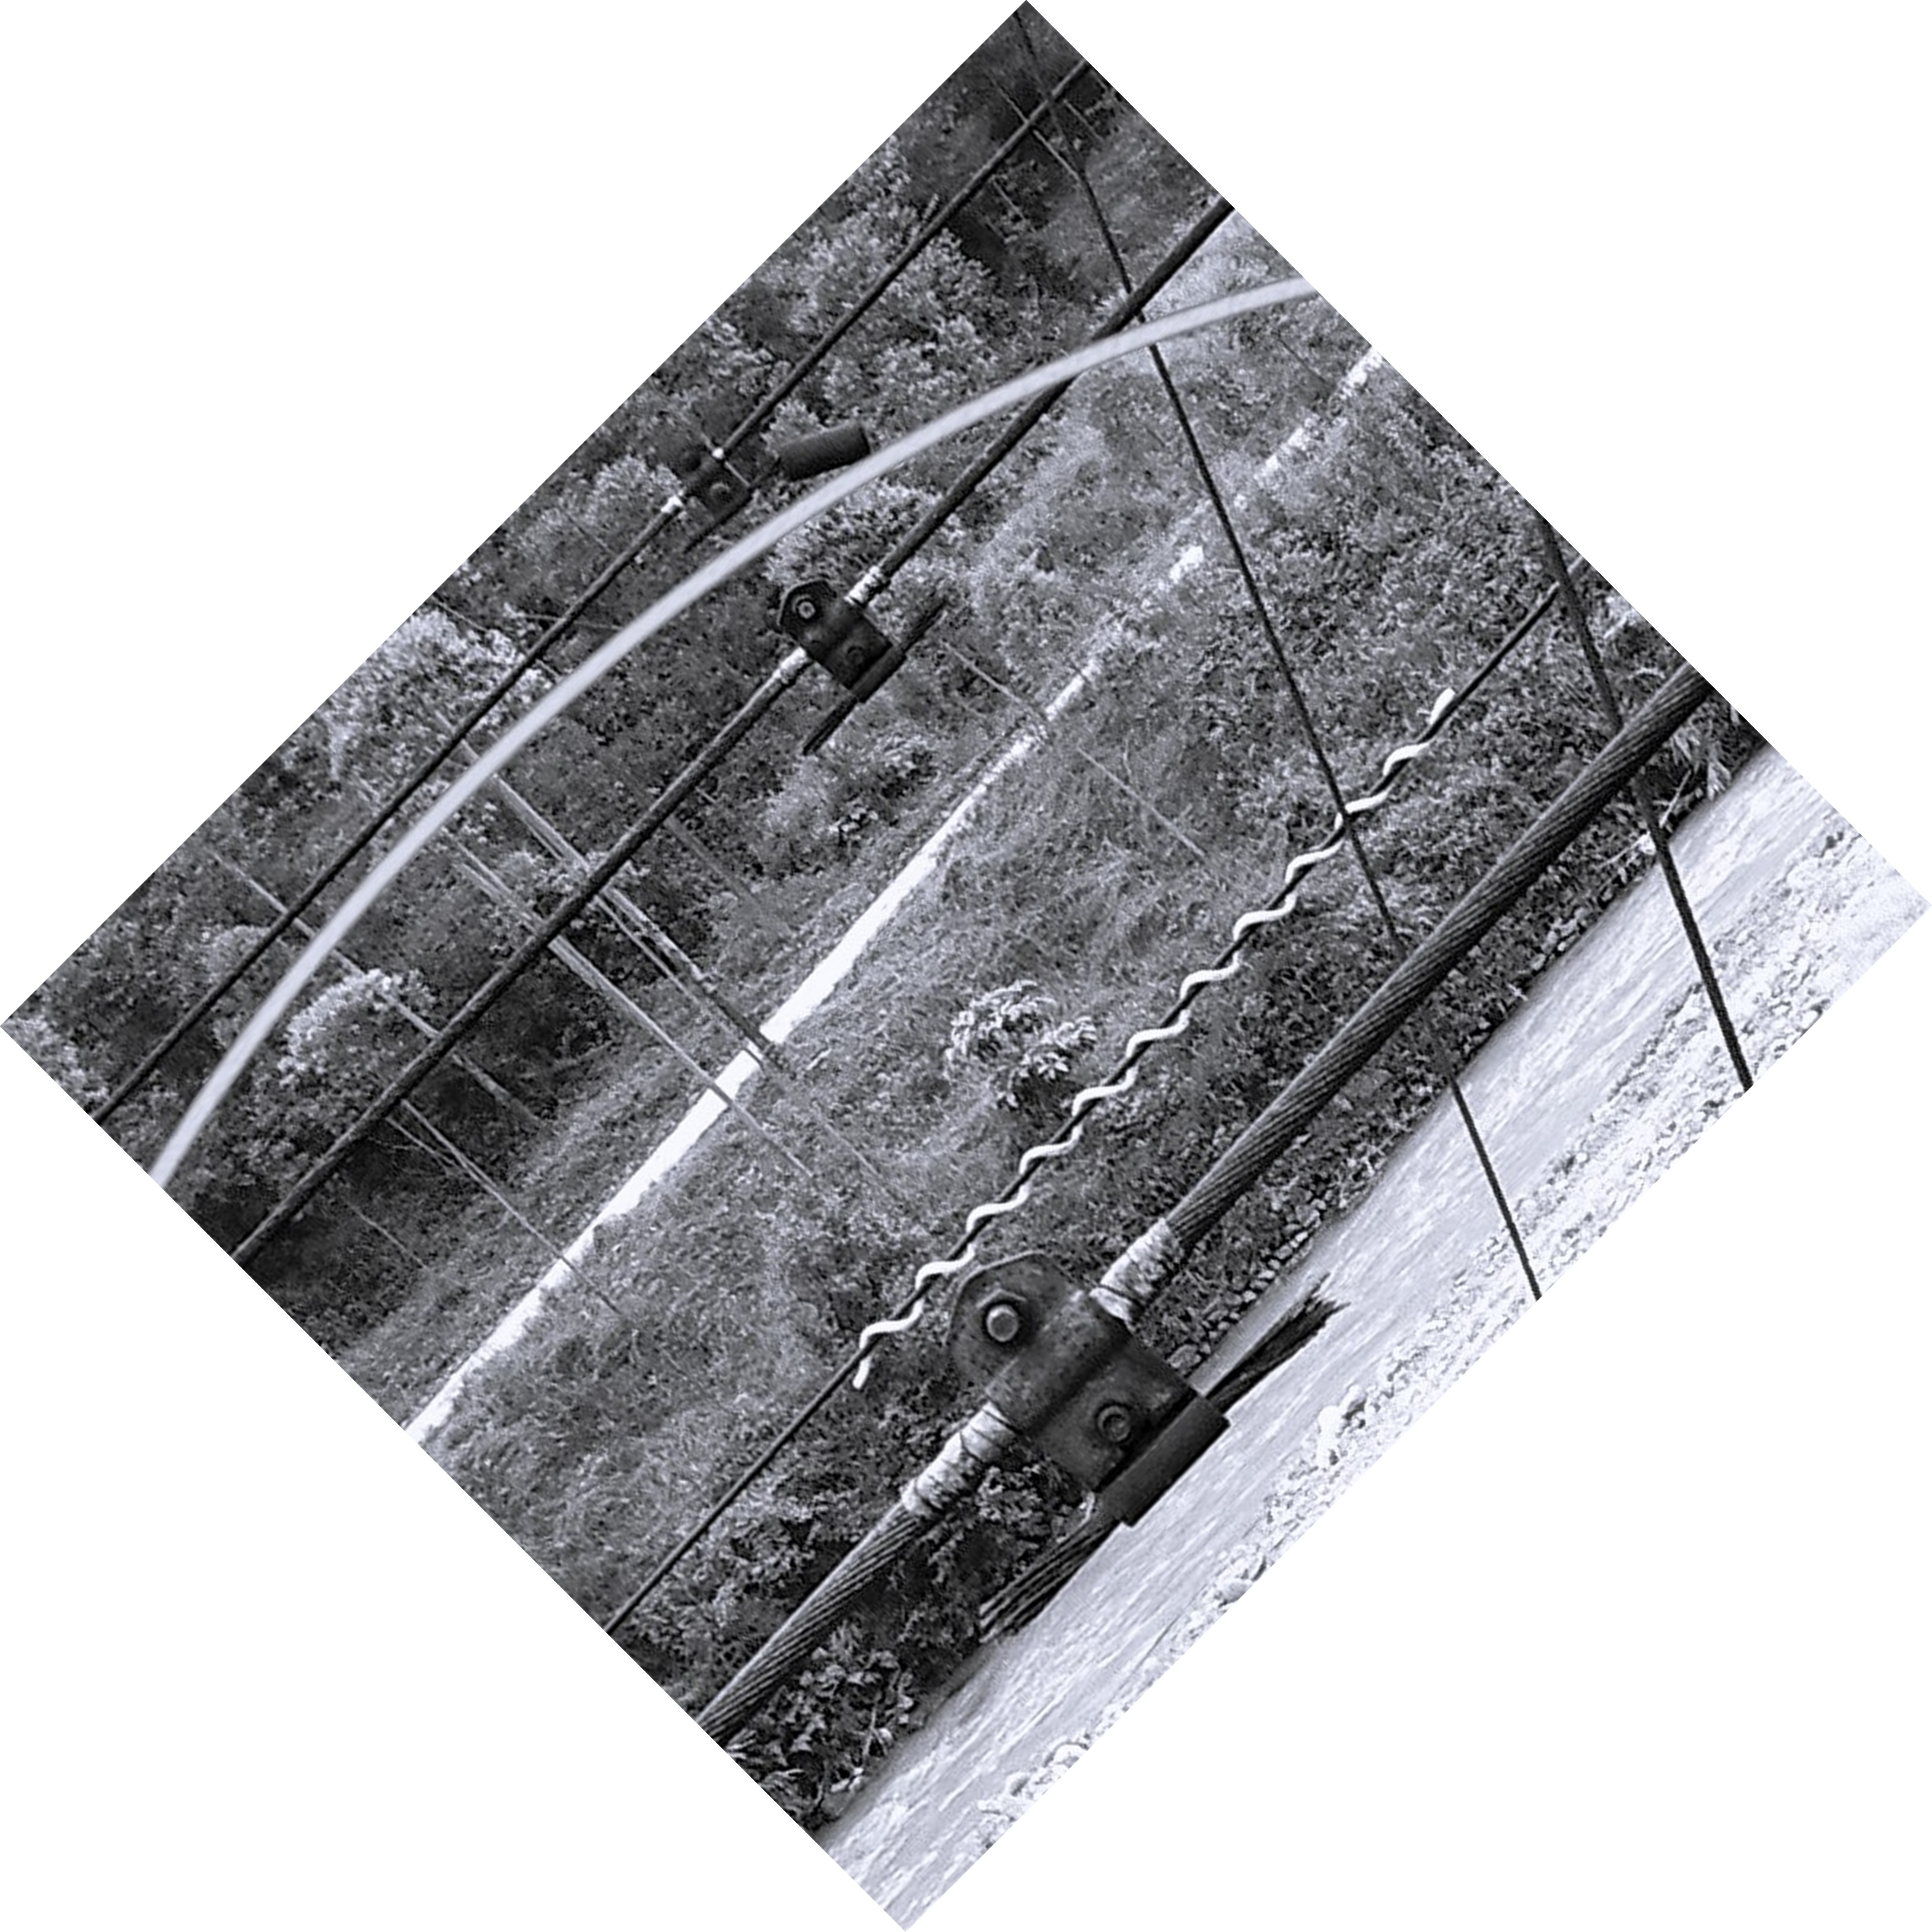Damage of shockproof hammer: (881, 1196, 1371, 1668)
